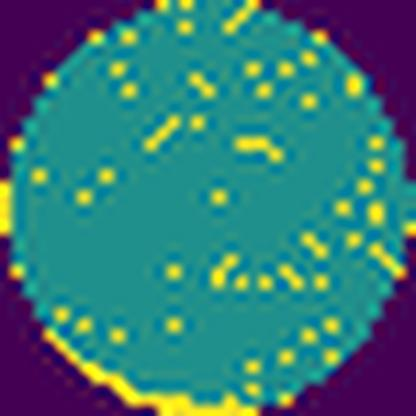Edge-Loc: (40, 321, 260, 416)
